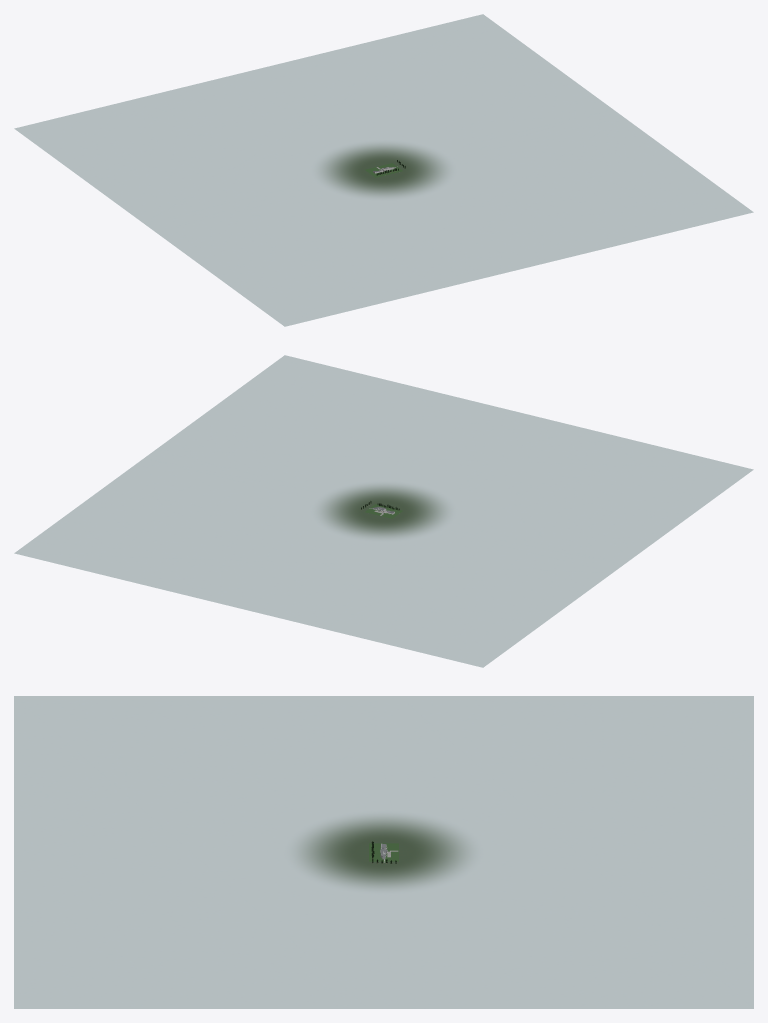
Rendered from design2121_v18.glb.
3 renders of one model, top to bottom at view 1: azimuth 30°, elevation 25°; view 2: azimuth 150°, elevation 25°; view 3: azimuth 270°, elevation 25°, orthographic. The views are drawn at different scales.
Visible parts, largest first — view 1: SM_Site_FarGround_North, SM_Site_FarGround_South, SM_Site_FarGround_West, SM_Site_FarGround_East; view 2: SM_Site_FarGround_South, SM_Site_FarGround_North, SM_Site_FarGround_West, SM_Site_FarGround_East; view 3: SM_Site_FarGround_North, SM_Site_FarGround_South, SM_Site_FarGround_West, SM_Site_FarGround_East.
Boxes of the visible parts, x1=… form: SM_Site_FarGround_North: x1=155, y1=117, x2=753, y2=326; SM_Site_FarGround_South: x1=14, y1=14, x2=612, y2=223; SM_Site_FarGround_West: x1=144, y1=170, x2=374, y2=231; SM_Site_FarGround_East: x1=393, y1=109, x2=623, y2=170; SM_Site_FarGround_South: x1=14, y1=458, x2=612, y2=667; SM_Site_FarGround_North: x1=155, y1=355, x2=753, y2=564; SM_Site_FarGround_West: x1=393, y1=511, x2=623, y2=572; SM_Site_FarGround_East: x1=144, y1=450, x2=374, y2=511; SM_Site_FarGround_North: x1=14, y1=696, x2=368, y2=1008; SM_Site_FarGround_South: x1=399, y1=696, x2=753, y2=1008; SM_Site_FarGround_West: x1=369, y1=696, x2=398, y2=843; SM_Site_FarGround_East: x1=369, y1=861, x2=398, y2=1008.
Size of the model in its own units: 1600 by 19.91 by 1600.
Materials: 51 (12 with a texture image).
